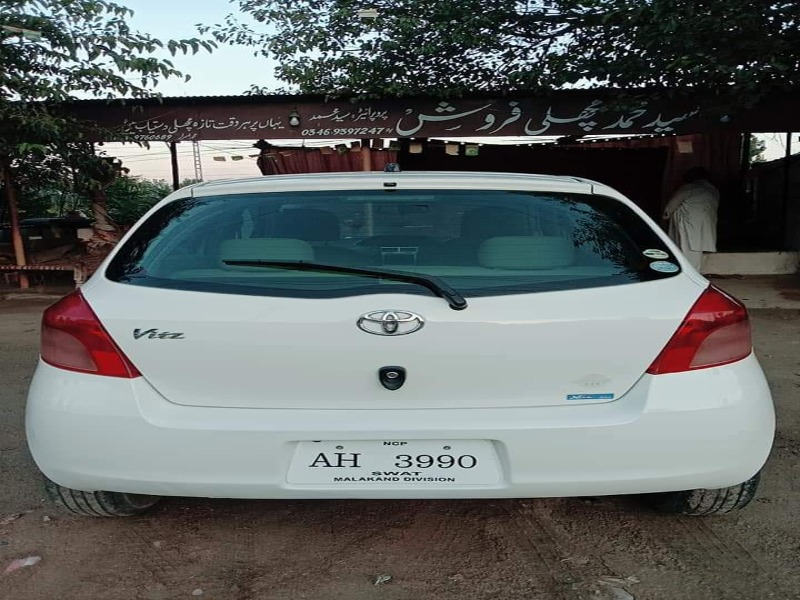License Plate: (282, 437, 515, 494)
